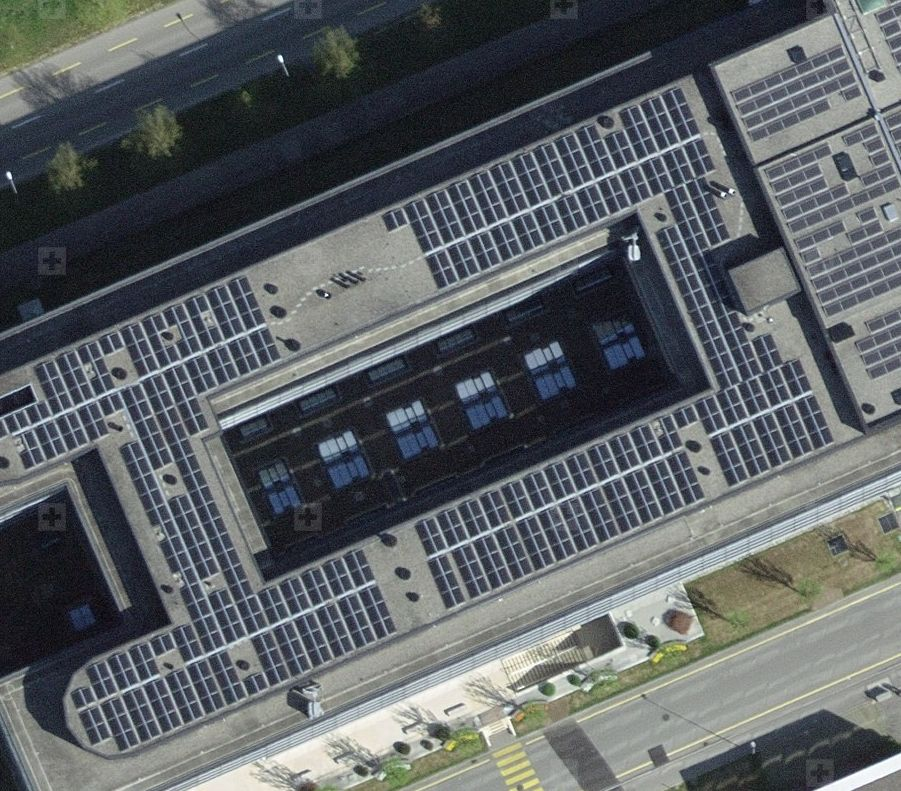solar: (1, 15, 901, 748)
